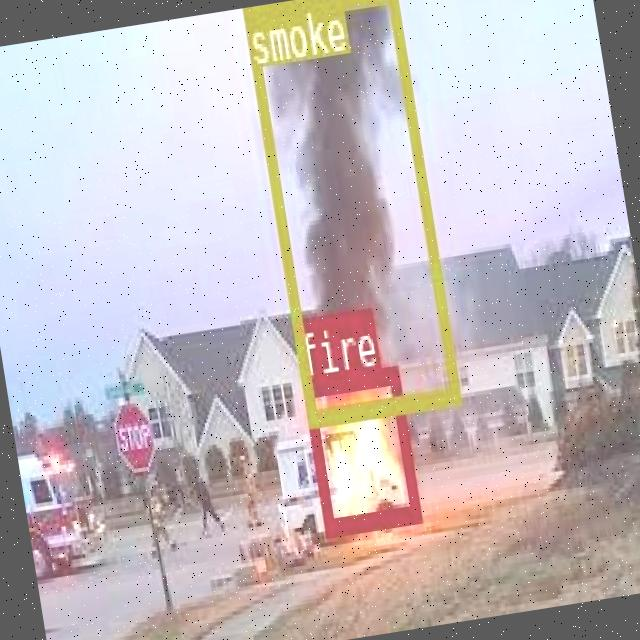fire: (301, 363, 420, 532)
smoke: (241, 0, 459, 426)
